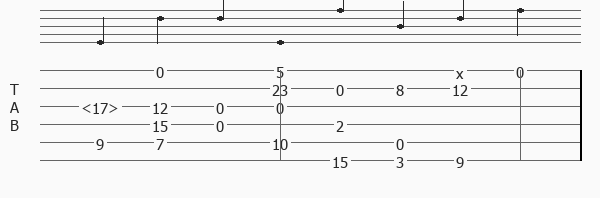0: (156, 63, 168, 78), (216, 99, 228, 114), (216, 117, 228, 132), (276, 99, 288, 114), (336, 81, 348, 96), (396, 135, 408, 150), (516, 63, 528, 78)
10: (272, 135, 292, 150)
12: (152, 99, 172, 114), (452, 81, 472, 96)
15: (152, 117, 172, 132), (332, 153, 352, 168)
2: (336, 117, 348, 132)
23: (272, 81, 292, 96)
3: (396, 153, 408, 168)
5: (276, 63, 288, 78)
7: (156, 135, 168, 150)
8: (396, 81, 408, 96)
9: (96, 135, 108, 150), (456, 153, 468, 168)
harmonic: (81, 99, 123, 114)
x: (456, 64, 468, 76)
